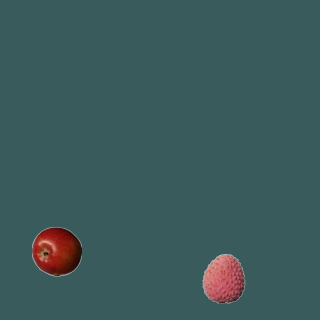Apple Braeburn: (31, 226, 81, 276)
Lychee: (198, 253, 248, 303)
